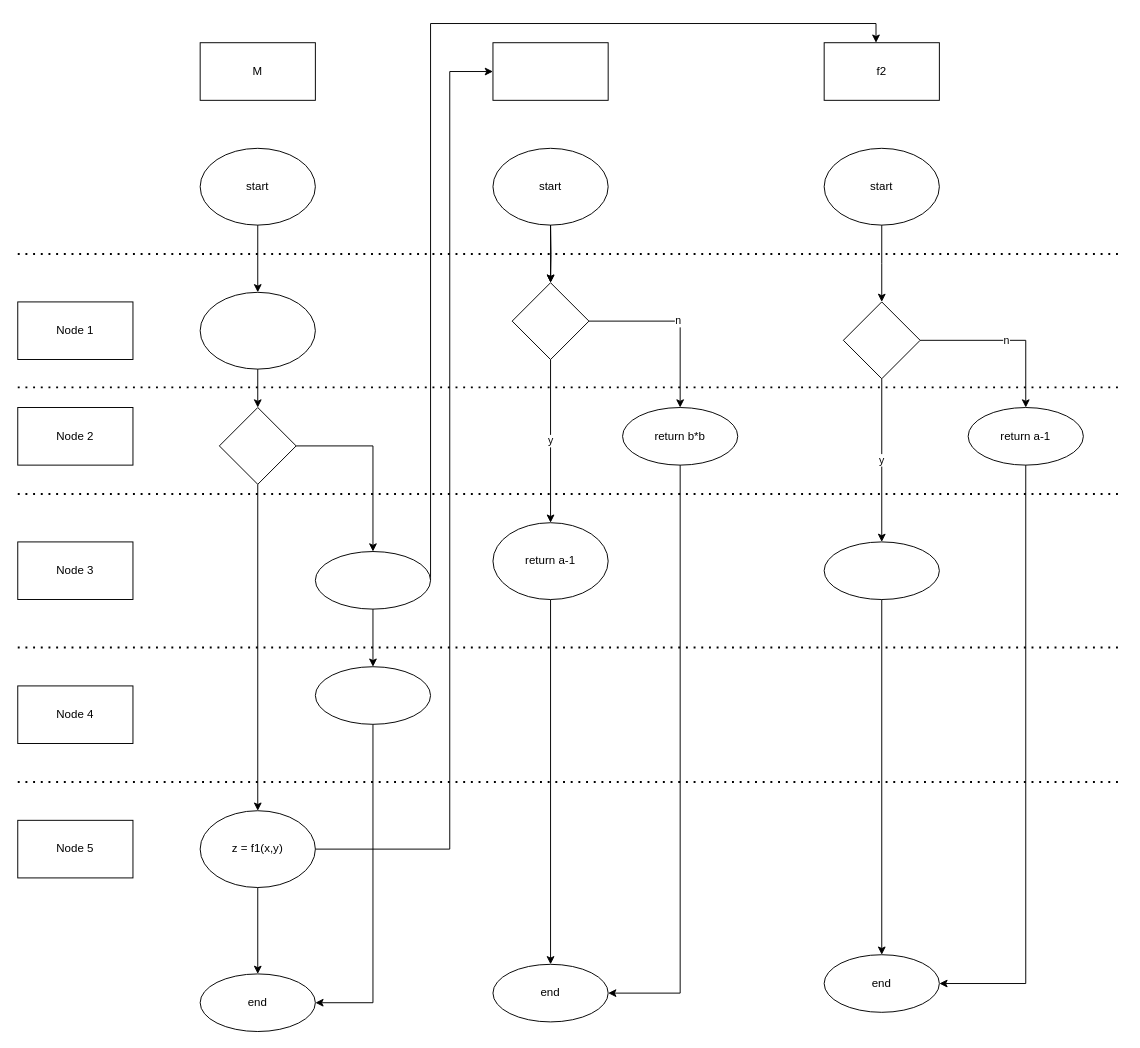
This 1140x1048 diagram has some shape labels left out. Here are the shapes that lost their labels. From the top down, the box of each, then its label:
(492, 42, 608, 100): f1
(199, 291, 315, 369): int z
(511, 282, 589, 360): if a-1 == b
(842, 301, 920, 379): if a == b-2
(218, 407, 296, 484): if x>=y
(314, 551, 431, 609): z = f2(x,y)
(823, 541, 939, 600): return b-1
(314, 666, 431, 724): return z
